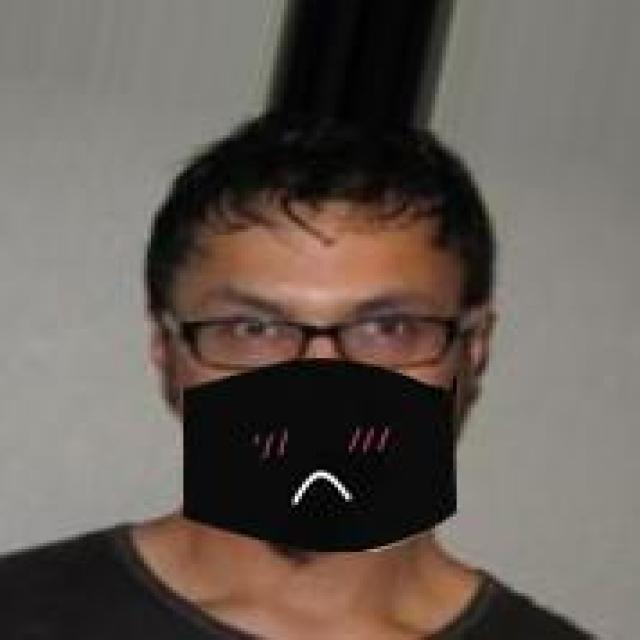mask: (54, 156, 543, 549)
